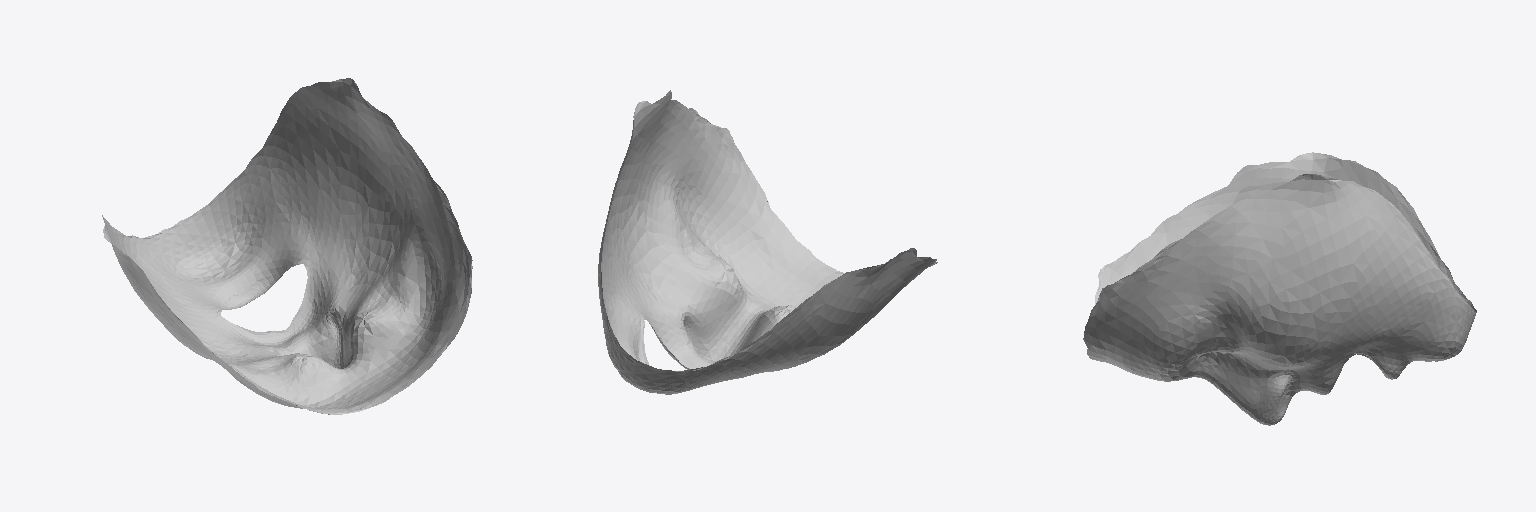
Rendered from face_gab_sfm77.obj.
The picture shows the model from 3 angles: view 1: azimuth 30°, elevation 25°; view 2: azimuth 150°, elevation 25°; view 3: azimuth 270°, elevation 25°; orthographic projection.
Bounding box in the file's own units: 166 × 162 × 210.